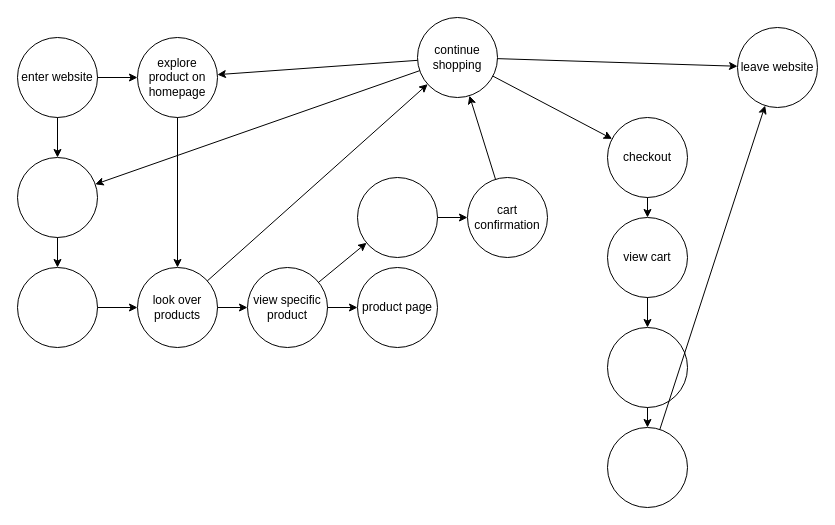
Image size: 835x525. Some labels were removed from this diagram. Here are the shapes that lost their labels. From the top down, the centre of each, then its label:
(x=57, y=197): search for a product
(x=397, y=217): add to cart
(x=57, y=307): provide input of search
(x=647, y=367): view payment
(x=647, y=467): order confirmation and email
